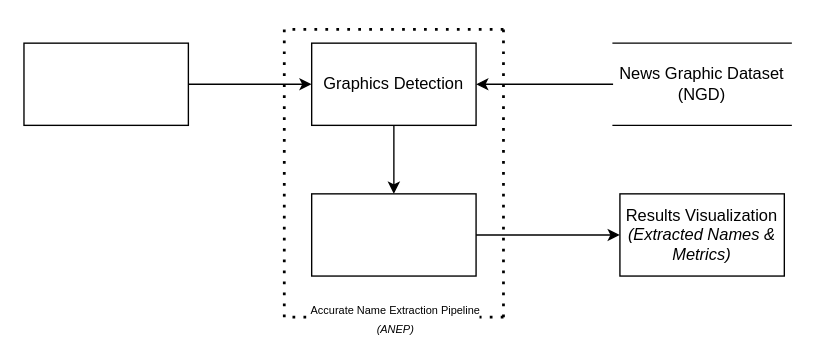
This 815x359 diagram has some shape labels left out. Each missing label, with the centre of its shape:
"Text Extraction (OCR & NER)" goes at point 393,234.
"User Interaction (Input Video)" goes at point 105,83.
